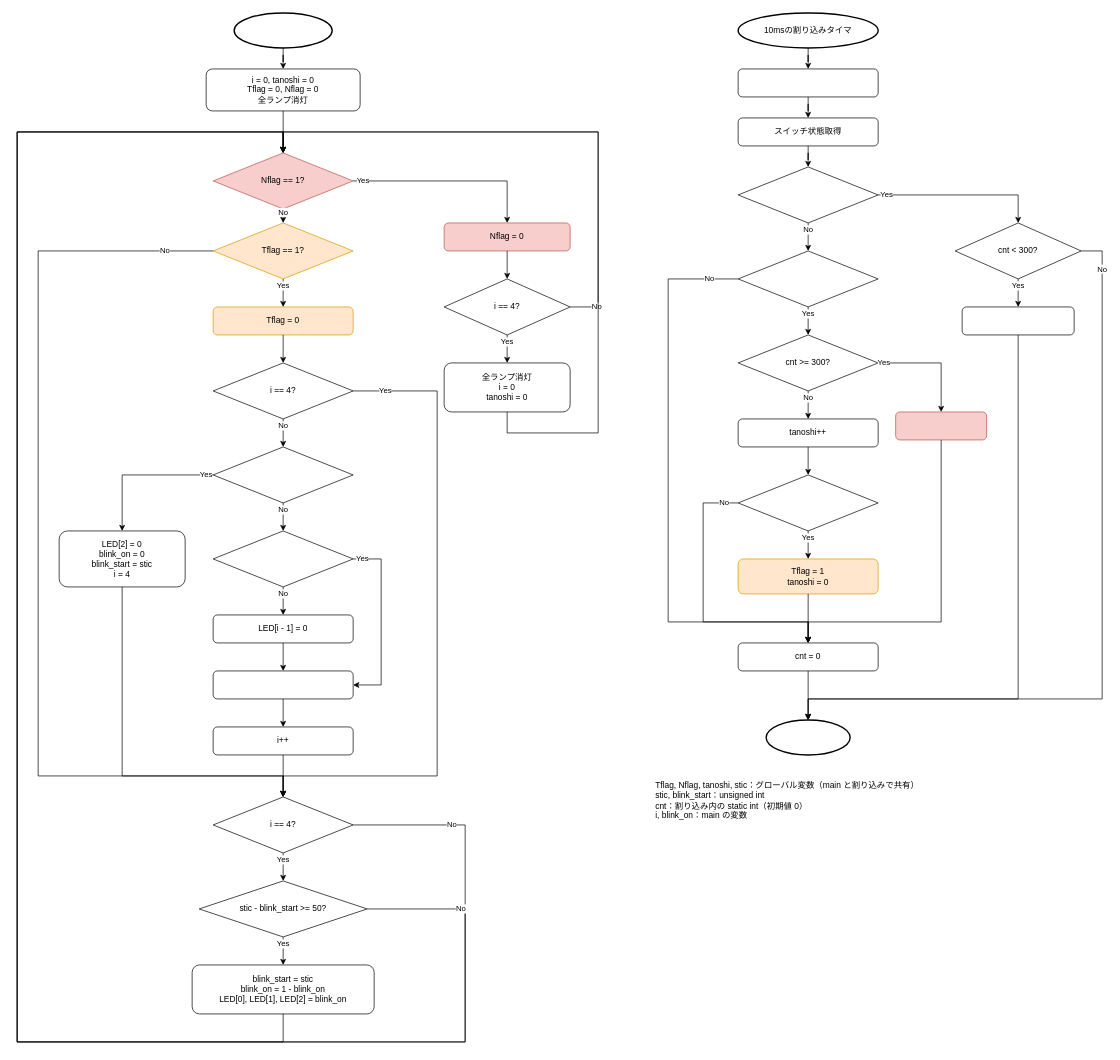
Some shapes in this 1120 by 1060 pixel diagram are drawn without their labels. The shapes that lost their labels are listed below. From the top down, each one's centre as x and y in pixels, then its label:
[282,30]: main
[807,82]: stic++
[807,194]: スイッチ状態ON?
[807,278]: cnt >= 3?
[1017,320]: cnt++
[941,425]: Nflag = 1
[282,474]: i == 3?
[807,502]: tanoshi == 2?
[282,558]: i == 0?
[282,684]: LED[i] = 1
[807,737]: END
